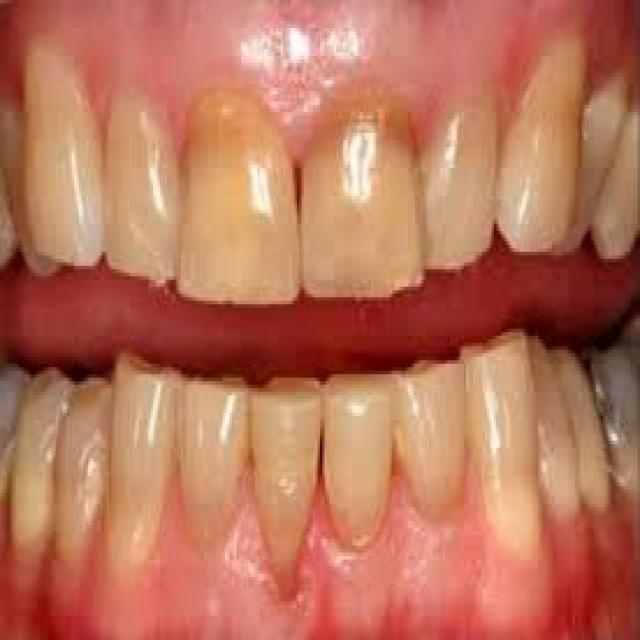Tooth Discoloration: (183, 52, 452, 175)
